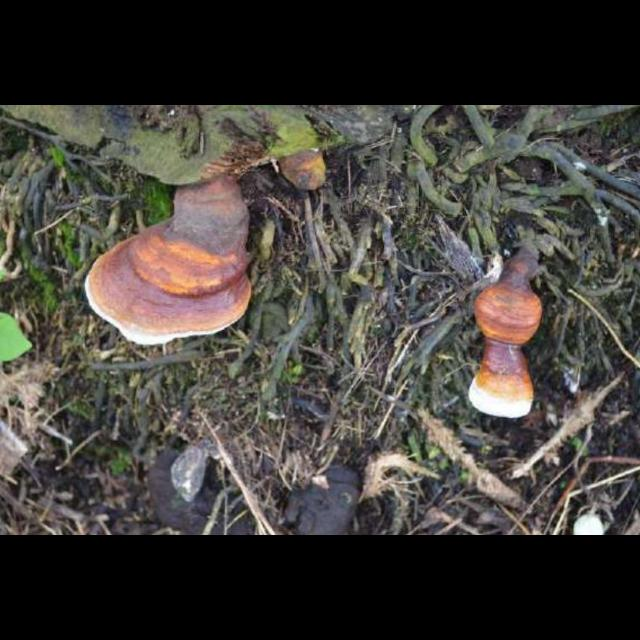ganoderma: (84, 214, 255, 348), (469, 351, 538, 422)
